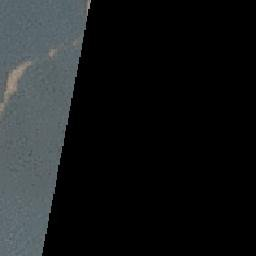cloud: (5, 58, 28, 101)
